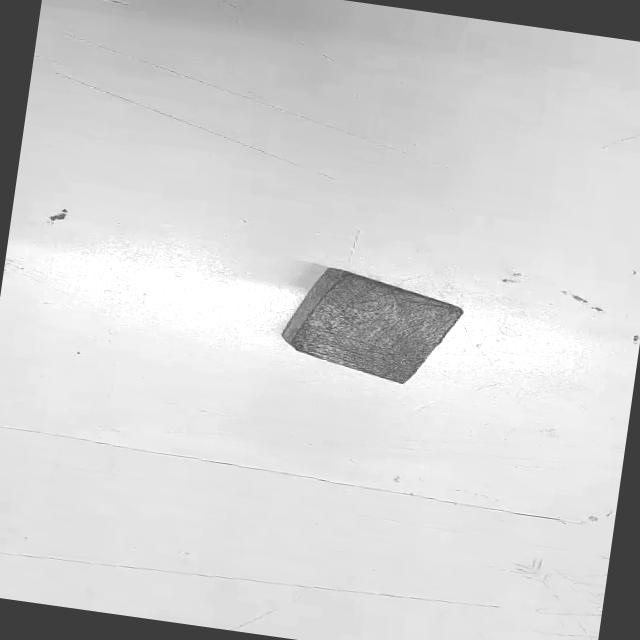bcube: (274, 261, 470, 393)
